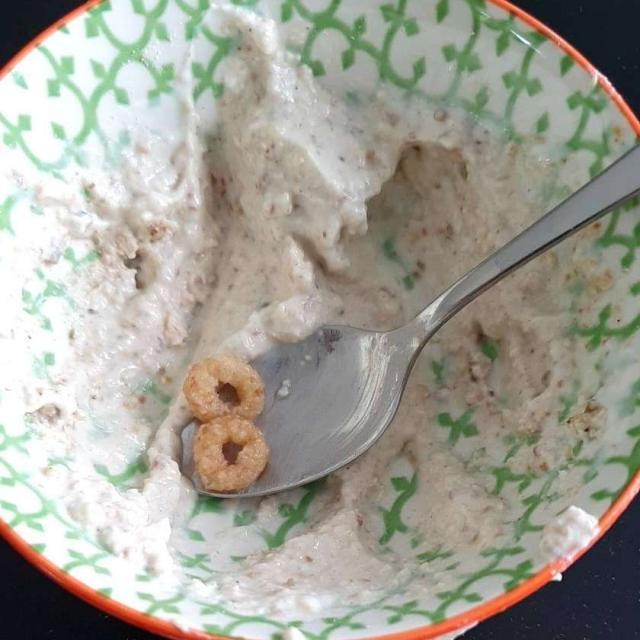yogurt: (14, 37, 577, 589)
